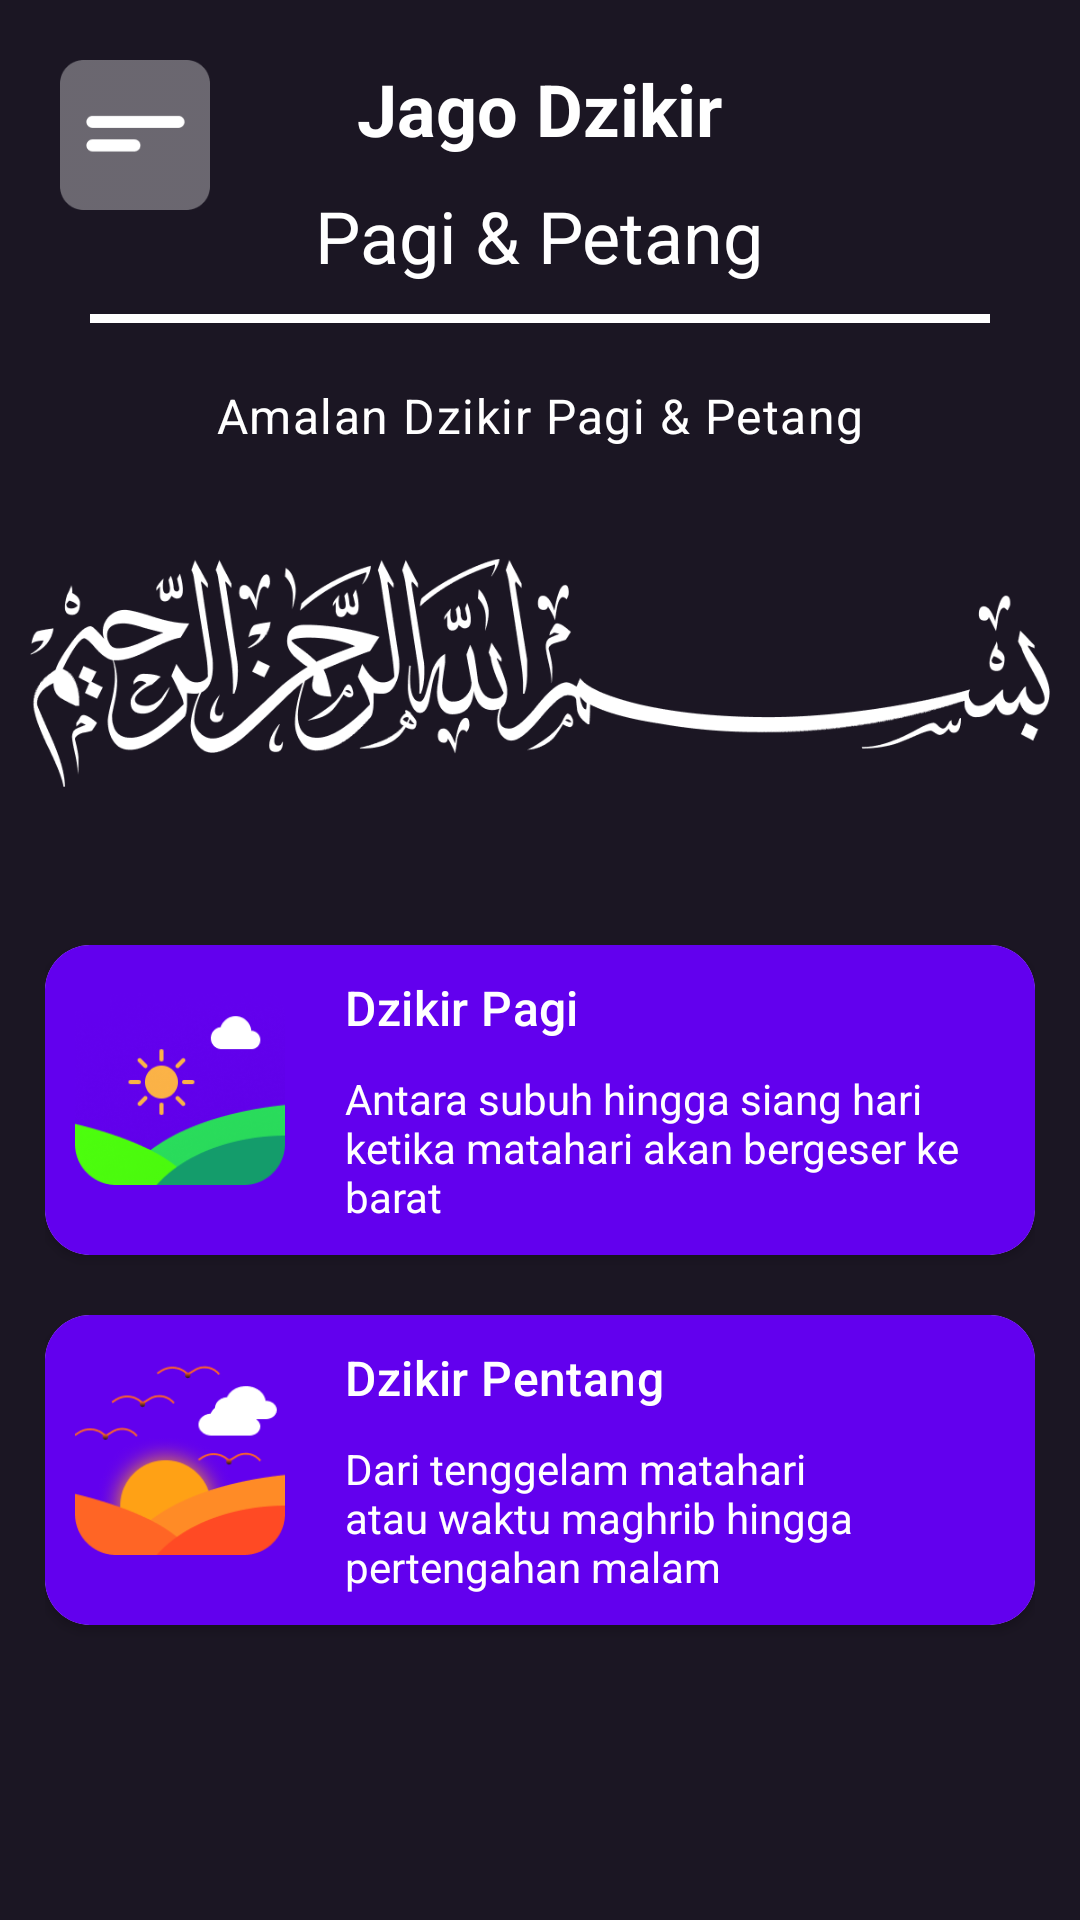

Where icons sit on this 1080*1920 app screen, as (x1, y1, x2, y2):
dzikir petan: (75, 1366, 285, 1555)
menu: (60, 60, 210, 210)
